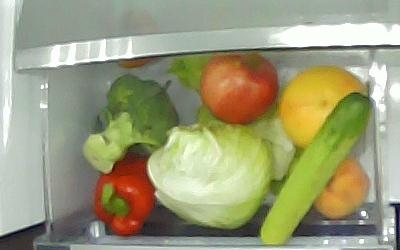apple: (201, 52, 278, 124)
broccoli: (83, 74, 180, 173)
cucumber: (260, 92, 369, 245)
grapefruit: (281, 66, 365, 154)
lettuce: (147, 119, 272, 229)
paprika: (94, 152, 160, 237)
peach: (312, 157, 368, 218)
